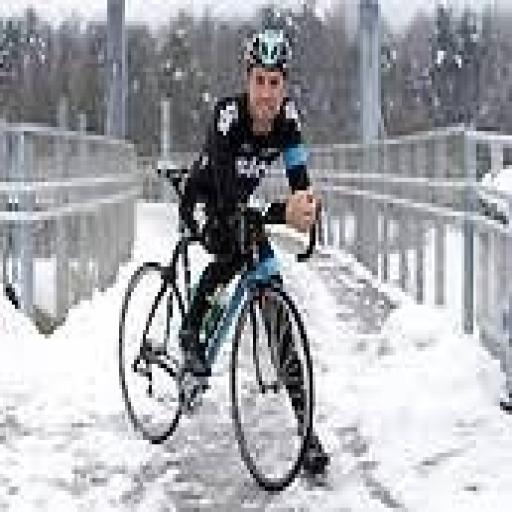cycling: (173, 26, 333, 478)
